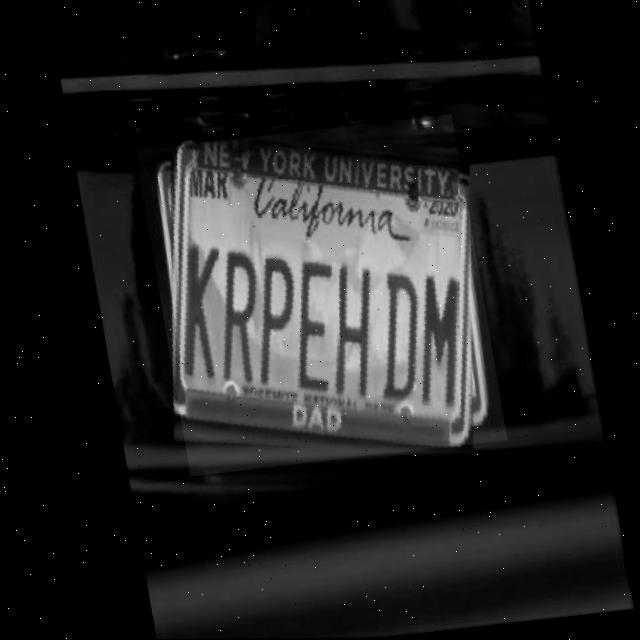LicensePlate: (130, 114, 503, 476)
